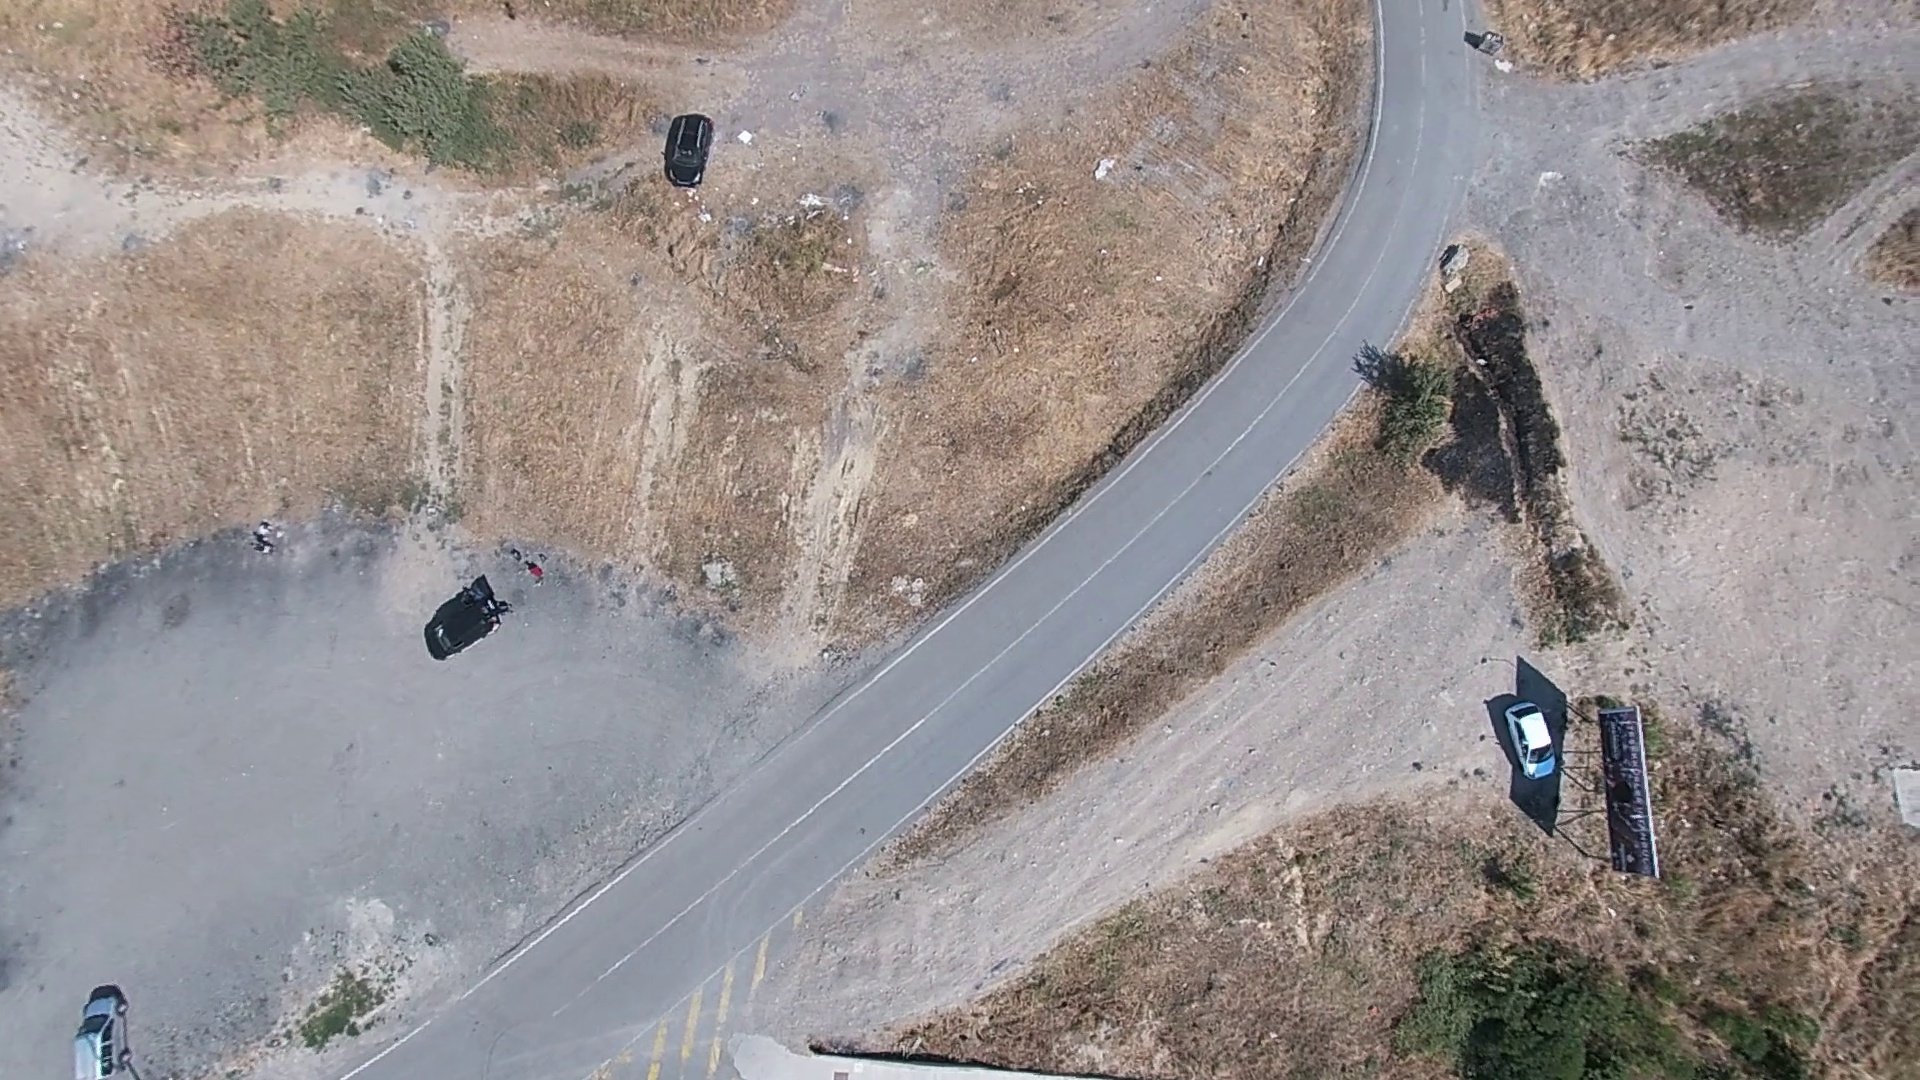araba: (65, 975, 135, 1080), (1498, 698, 1563, 786), (665, 109, 717, 187)
